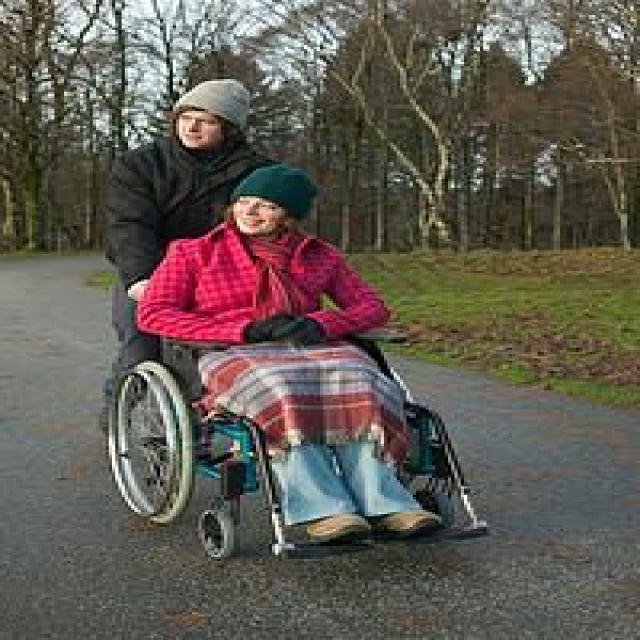wheelchairs: (70, 264, 514, 568)
